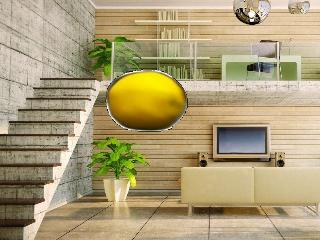lemon: (108, 72, 185, 129)
